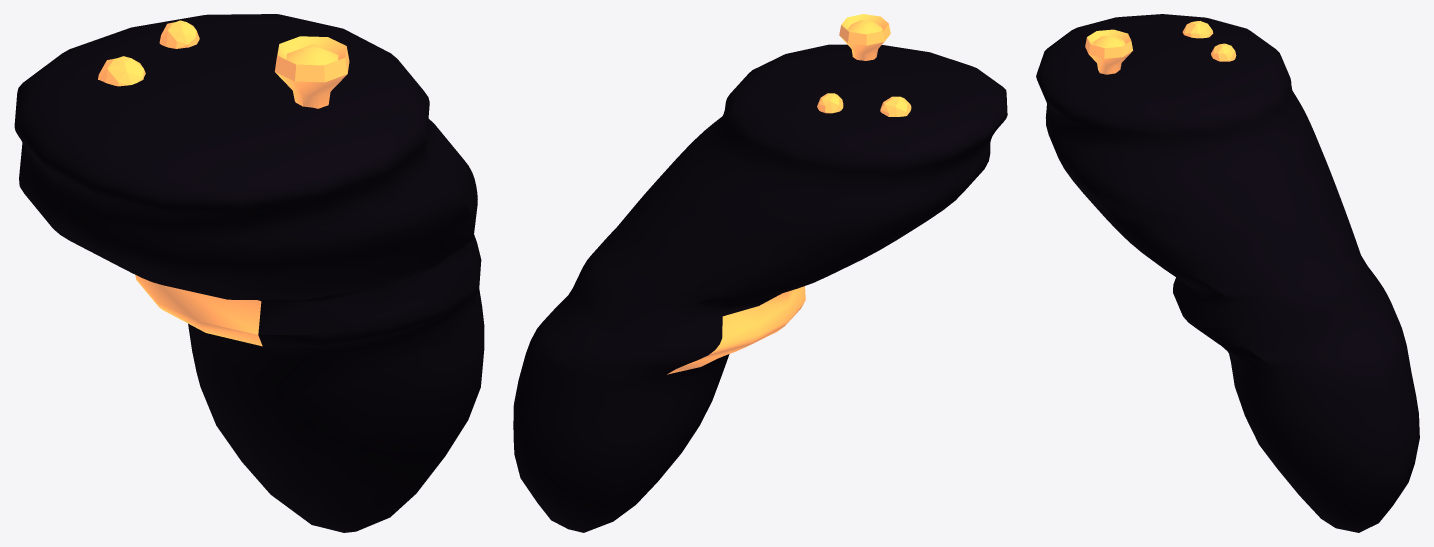
The model's file is LINKS_orange.fbx.
3 views of the same model, side by side, from view 1: azimuth 30°, elevation 25°; view 2: azimuth 150°, elevation 25°; view 3: azimuth 270°, elevation 25° (orthographic). The views are drawn at different scales.
Visible parts, largest first — view 1: Body, Joystick, Buttongroß, Buttonklein; view 2: Body, Joystick; view 3: Body, Joystick.
Boxes of the visible parts, x1,y1,x2,y2 form: Body: [14, 14, 484, 532]; Joystick: [274, 36, 349, 108]; Buttongroß: [98, 56, 145, 86]; Buttonklein: [159, 20, 199, 48]; Body: [513, 44, 1007, 532]; Joystick: [839, 14, 890, 60]; Body: [1036, 14, 1419, 532]; Joystick: [1085, 29, 1132, 74].
Size of the model in its own units: 12.84 by 14.99 by 12.34.
